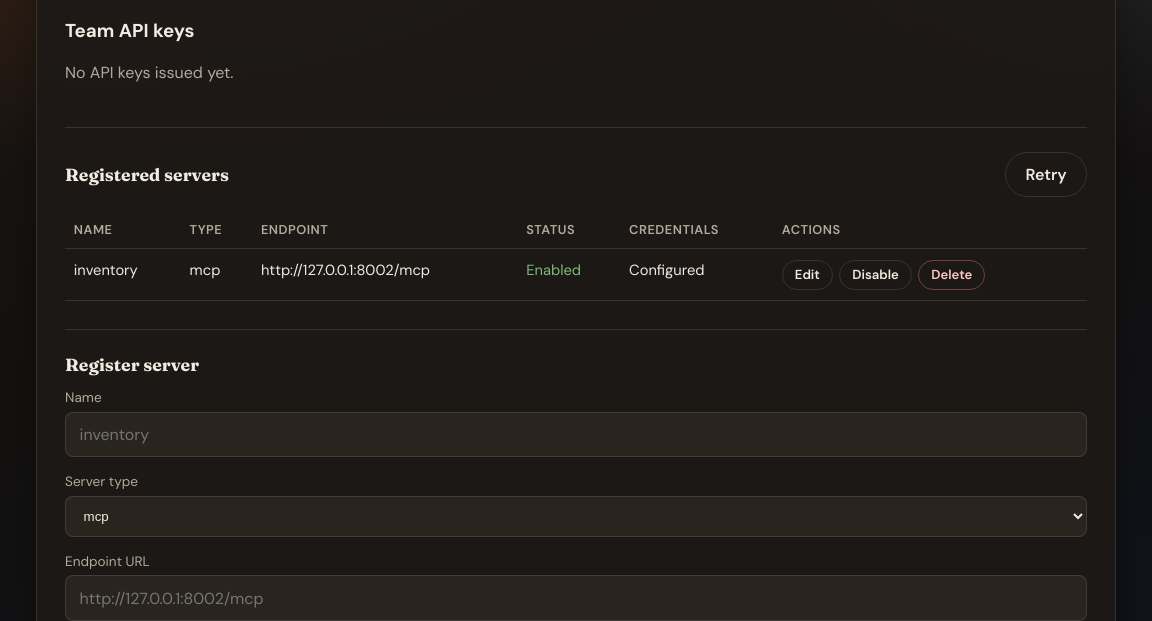
Scenario: admin MCP server management › edits, enables/disables, and deletes with confirmation
The image size is (1152, 621).
(page scrolled)
Expected: the text "inventory" is shown, 65,249 -> 181,301
Click the button "Disable" at (876,275), box 839,260 -> 912,290
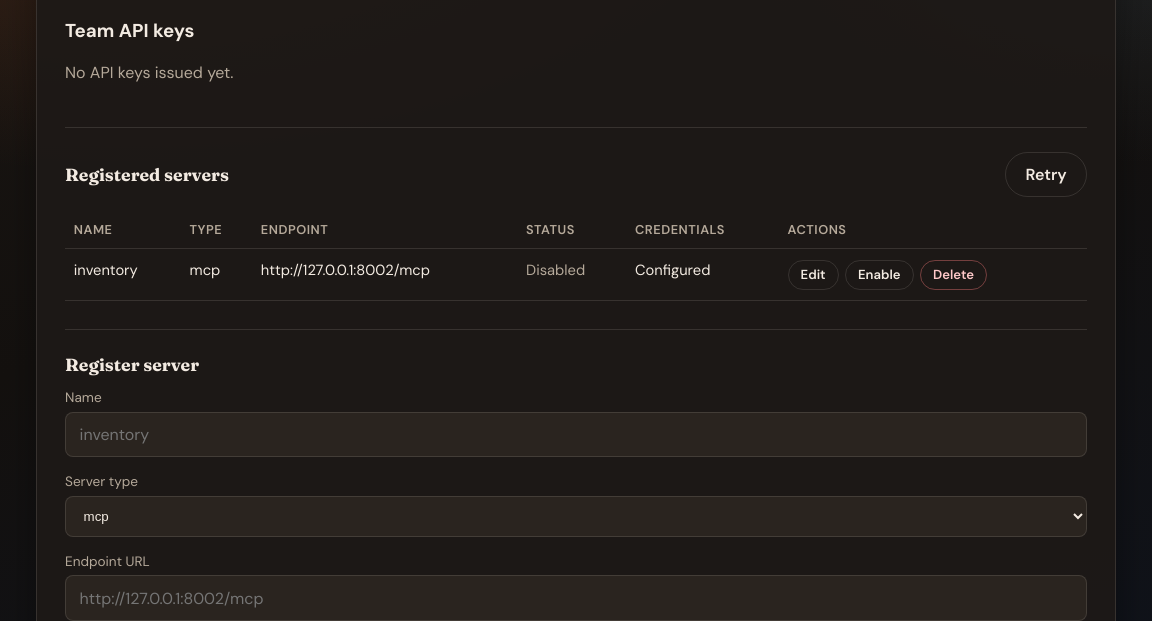
Result: the text "Disabled" is shown at 526,260 -> 585,280
Click the button "Edit" at (813,275), box 788,260 -> 839,290
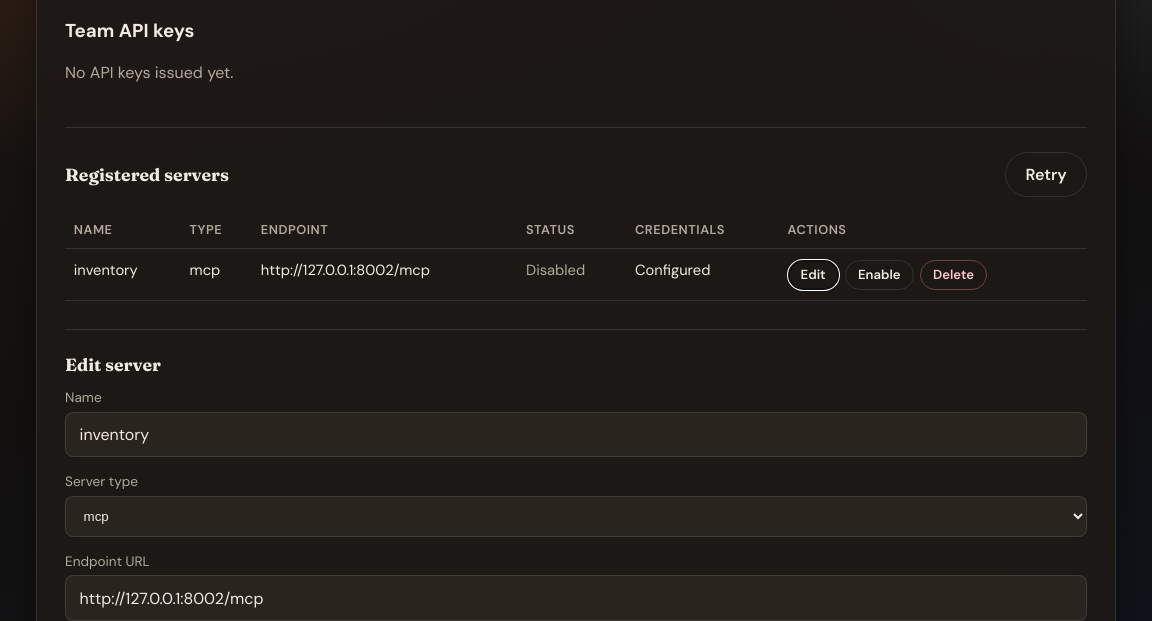
Replace the text in the field labelled "Name" with "inventory-v2" at (576,434), box 65,412 -> 1087,457
(page scrolled)
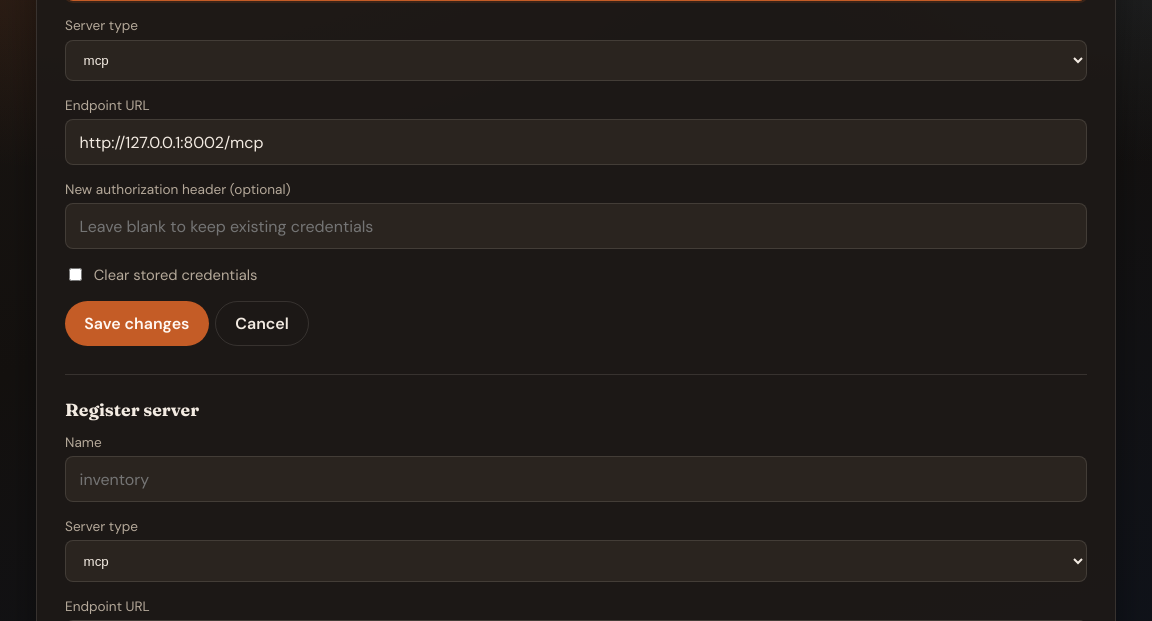
Click the checkbox labelled "Clear stored credentials" at (76,275), box 69,268 -> 82,281
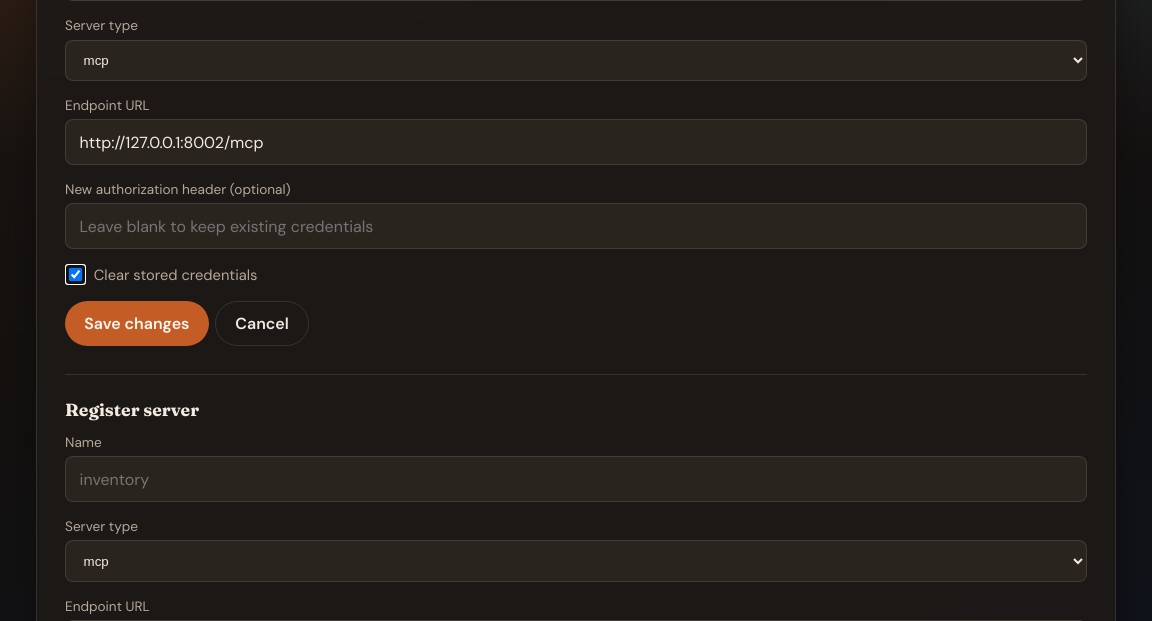
Click the button "Save changes" at (137,324), box 65,301 -> 209,346
(page scrolled)
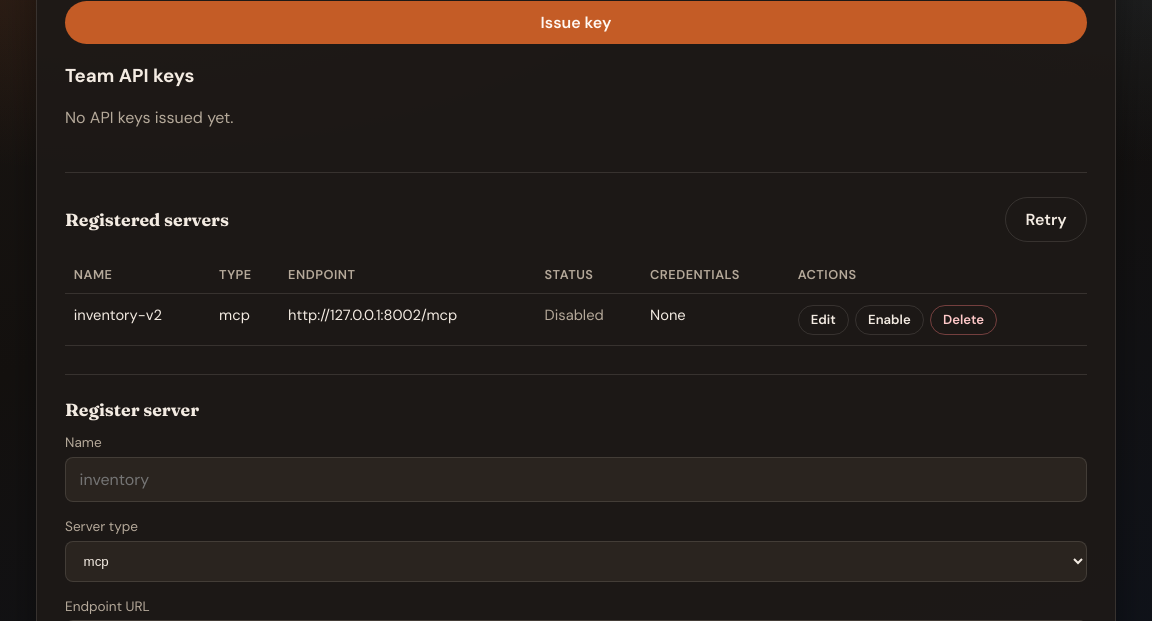
Result: the text "inventory-v2" is shown at 65,294 -> 210,346
Result: the text "None" is shown at 641,294 -> 789,346
Click the button "Delete" at (964,320), box 930,305 -> 997,335
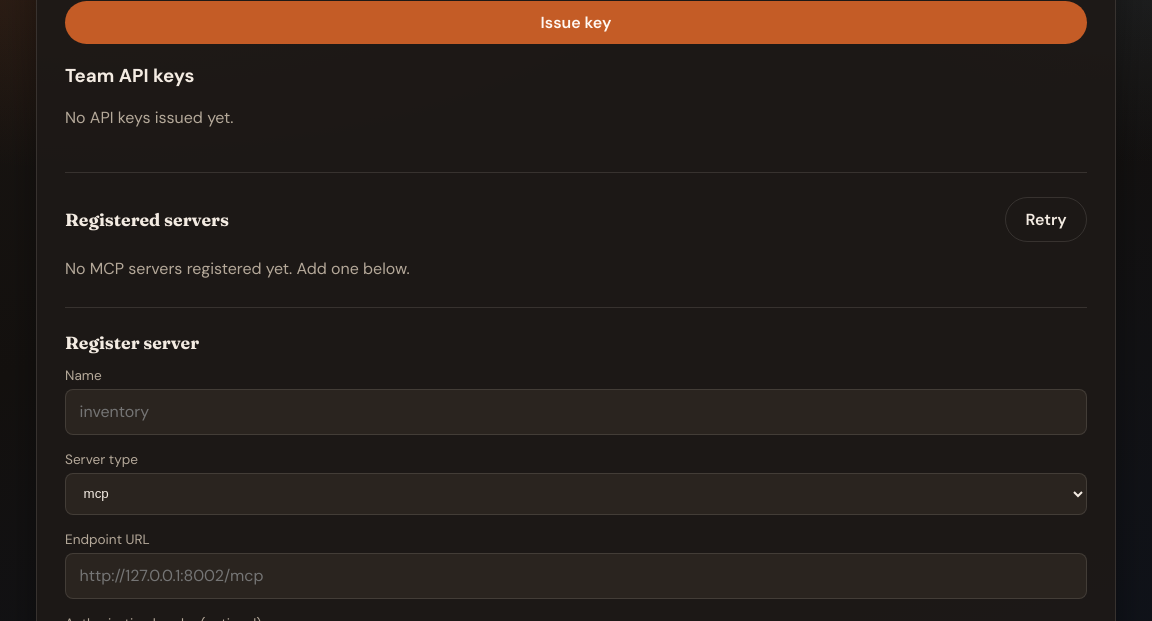
Result: the text "No MCP servers registered yet. Add one below." is shown at 65,258 -> 410,279
